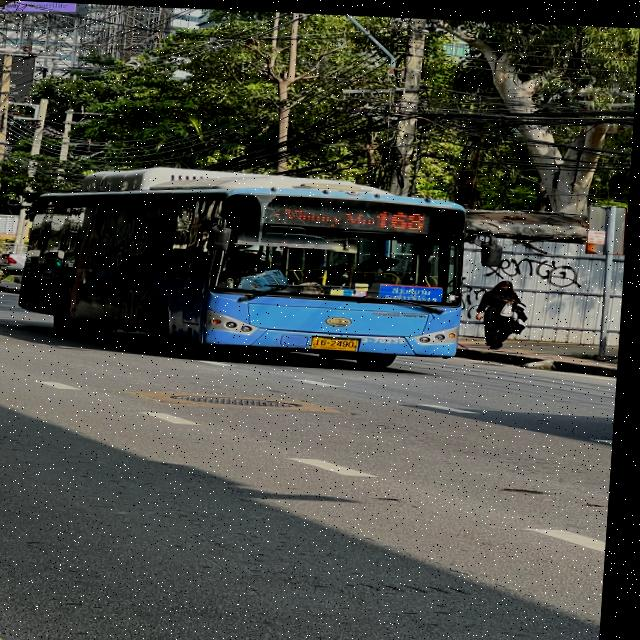BMTA-bus: (21, 166, 470, 364)
Bus Line Number: (374, 204, 434, 229)
Bus Side Number: (365, 332, 412, 342)
Destination Sign: (384, 281, 447, 297)
